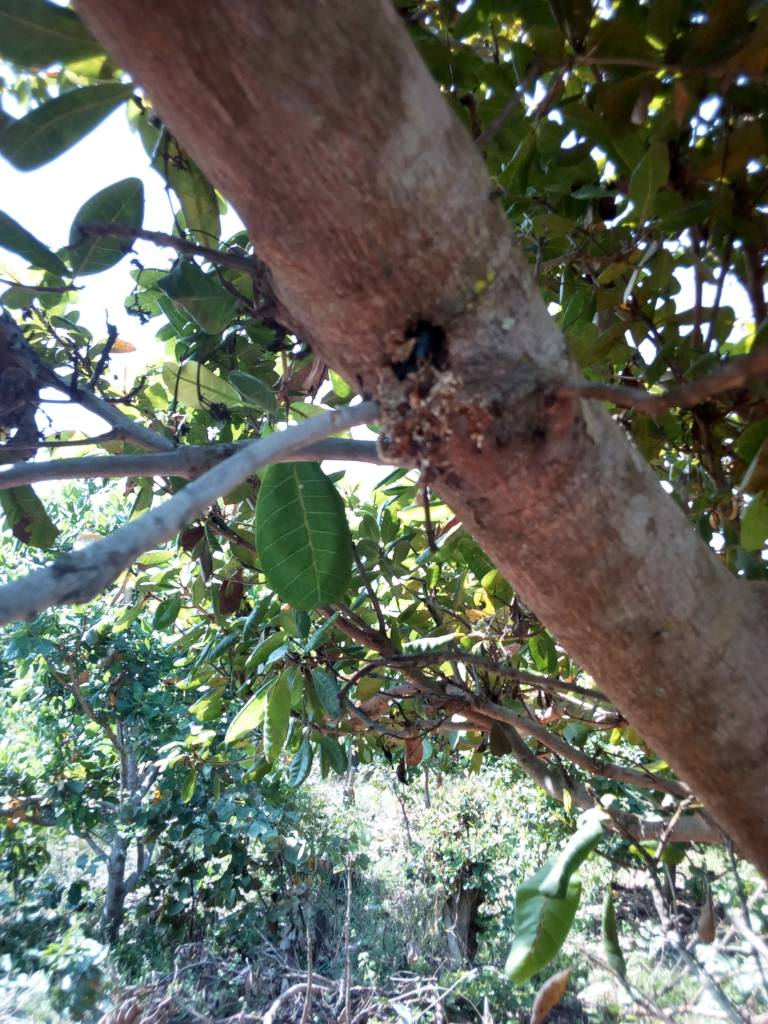Apate terebrans: (347, 301, 541, 479)
